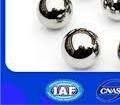ironball: (61, 27, 101, 67), (36, 0, 76, 30), (102, 0, 119, 21), (117, 30, 119, 70)
